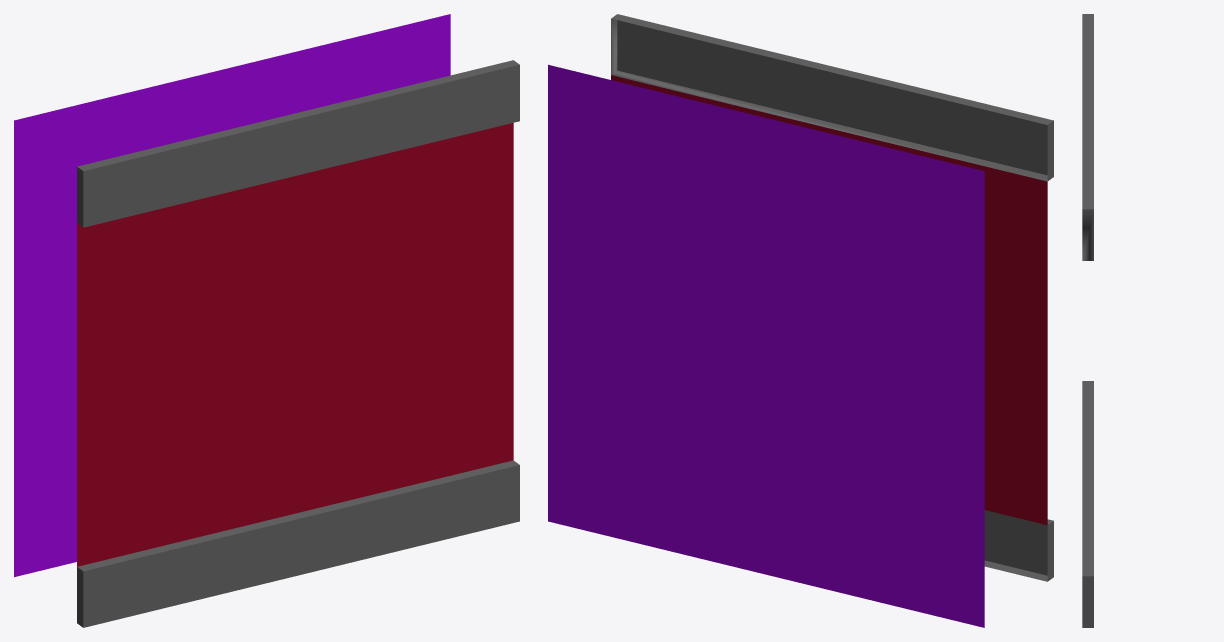
The model's file is Wall_01_1x1.fbx.
3 views of the same model, side by side, from view 1: azimuth 30°, elevation 25°; view 2: azimuth 150°, elevation 25°; view 3: azimuth 270°, elevation 25° (orthographic). The views are drawn at different scales.
Visible parts, largest first — view 1: Wall_01_1x1; view 2: Wall_01_1x1; view 3: Wall_01_1x1.
Part boxes in pixels (x1,y1,x2,y2): Wall_01_1x1: (14, 14, 519, 627); Wall_01_1x1: (548, 14, 1053, 627); Wall_01_1x1: (1082, 14, 1093, 627).
Size of the model in its own units: 1 by 1 by 0.275.
